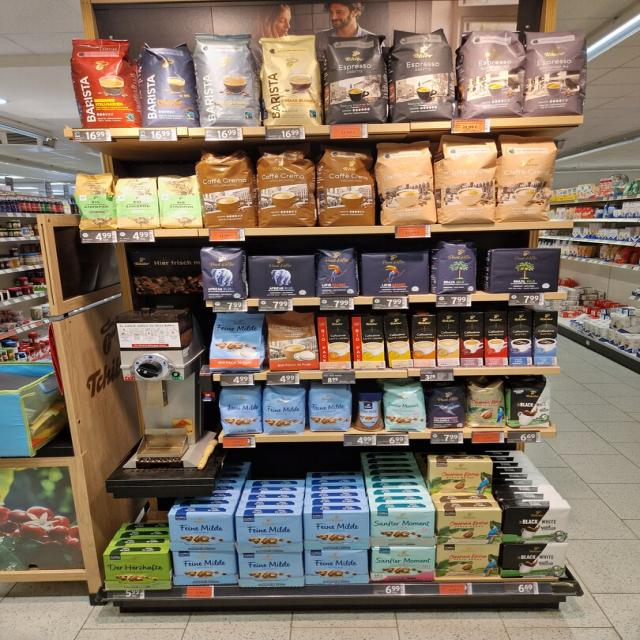AB Bohne: (199, 247, 248, 301)
AB Gemahlen: (248, 254, 316, 297)
BM Bohne: (433, 239, 477, 295)
BM Gemahlen: (488, 247, 563, 293)
BW Bohne: (509, 378, 551, 429)
BW Gemahlen: (503, 506, 572, 544), (502, 543, 568, 579)
Barista CB: (258, 34, 323, 125)
Barista CC: (196, 34, 260, 127)
Barista Espresso: (139, 36, 197, 128)
Barista Kolumbien: (67, 35, 137, 127)
C Fino Bohne: (427, 385, 467, 430)
CC Mild: (438, 135, 497, 225), (498, 134, 558, 222), (376, 141, 435, 226)
CC Vollmundig: (266, 312, 318, 371)
CC Vollmundig 36 Pads: (317, 140, 375, 226), (196, 145, 256, 228), (256, 144, 315, 228)
Colombia BB Bohne: (468, 381, 506, 429)
Colombia BB Gemahlen: (438, 509, 504, 545), (429, 459, 493, 495), (437, 545, 500, 577)
Espresso Kraftig: (324, 31, 390, 123), (392, 29, 456, 121)
Espresso M Art: (459, 28, 525, 118), (524, 27, 589, 117)
FM 36 Pads: (210, 312, 264, 372)
FM Bohne: (308, 381, 353, 433), (263, 384, 306, 436), (219, 388, 263, 435)
FM Gemahlen: (168, 513, 236, 551), (303, 512, 370, 550), (235, 515, 302, 552), (238, 553, 304, 587), (172, 551, 237, 585), (304, 550, 368, 584)
FM Instant: (353, 388, 385, 432)
Herzhatfe Mundig: (104, 554, 172, 591)
LG Bohne: (318, 246, 359, 296)
LG Gemahlen: (362, 251, 429, 295)
SM Bohne: (384, 384, 427, 433)
SM Gemahlen: (371, 510, 436, 547), (373, 547, 436, 582)
Simo CCMild bigpack: (352, 316, 384, 368), (384, 314, 414, 368)
Simo CCVollmundig: (319, 316, 351, 369)
Simo CCVollmundig bigpack: (413, 314, 436, 368)
Simo Decaff: (437, 312, 460, 367)
Simo Es Brazil: (485, 312, 508, 366)
Simo Es Caramel: (461, 312, 483, 366)
Simo Es Kraft: (510, 311, 532, 366)
Simo Es Vanilla: (535, 312, 558, 365)
